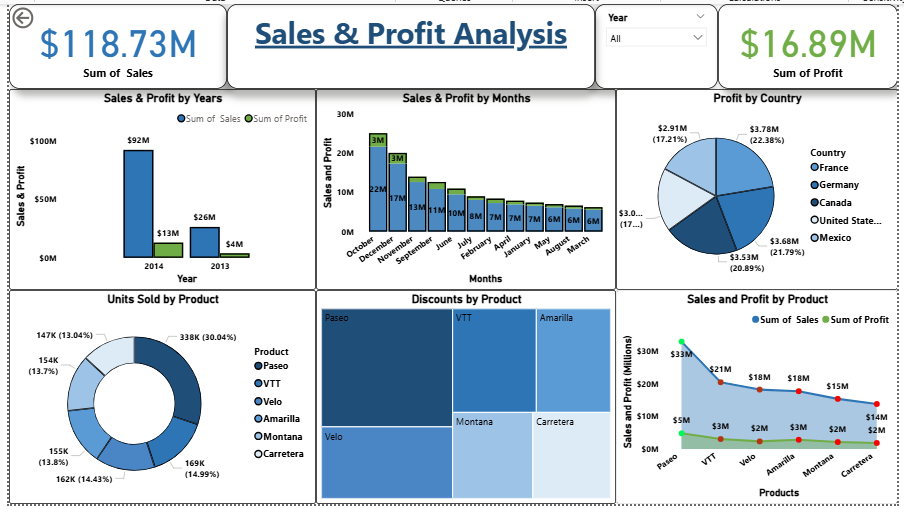

Layout of this report page (visuals, bound fields, positions):
{"tool":"powerbi","page":{"name":"Duplicate of Sales","canvas":[1280,720],"ordinal":0},"visuals":[{"type":"columnChart","title":"Sales & Profit by Months","fields":{"Category":["financials.Month Name"],"Y":["Sum(financials. Sales)","Sum(financials.Profit)"]},"box":[442.1,122.4,432,289.4],"z":0},{"type":"clusteredColumnChart","title":"Sales & Profit by Years","fields":{"Category":["financials.Year"],"Y":["Sum(financials. Sales)","Sum(financials.Profit)"]},"box":[0,122.4,442.1,289.4],"z":1000},{"type":"slicer","fields":{"Values":["financials.Year"]},"box":[843.8,0,177.1,122.4],"z":2000},{"type":"pieChart","title":"Profit by Country","fields":{"Category":["financials.Country"],"Y":["Sum(financials.Profit)"]},"box":[874.1,122.4,406.1,289.4],"z":3000},{"type":"card","fields":{"Values":["Sum(financials. Sales)"]},"box":[0,0,313.9,122.4],"z":4000},{"type":"treemap","title":"Discounts by Product","fields":{"Details":["financials.Product"],"Values":["Sum(financials.Discounts)"]},"box":[442.1,411.8,432,308.2],"z":5000},{"type":"lineChart","title":"Sales and Profit by Product","fields":{"Category":["financials.Product"],"Y":["Sum(financials. Sales)","Sum(financials.Profit)"]},"box":[874.1,411.8,406.1,308.2],"z":6000},{"type":"donutChart","title":"Units Sold by Product","fields":{"Category":["financials.Product"],"Y":["Sum(financials.Units Sold)"]},"box":[0,411.8,442.1,308.2],"z":7000},{"type":"card","fields":{"Values":["Sum(financials.Profit)"]},"box":[1021,0,259.2,122.4],"z":8000},{"type":"actionButton","box":[0,0,100,40],"z":9000},{"type":"textbox","box":[313.9,0,529.9,122.4],"z":10000}]}

Visuals, with their boxes in screenshot pixels (x1, y1, x2, y2):
"Sales & Profit by Months" columnChart: bbox(313, 85, 614, 287)
"Sales & Profit by Years" clusteredColumnChart: bbox(5, 85, 313, 287)
slicer - financials.Year: bbox(592, 0, 716, 85)
"Profit by Country" pieChart: bbox(614, 85, 896, 287)
card - Sum(financials. Sales): bbox(5, 0, 223, 85)
"Discounts by Product" treemap: bbox(313, 287, 614, 501)
"Sales and Profit by Product" lineChart: bbox(614, 287, 896, 501)
"Units Sold by Product" donutChart: bbox(5, 287, 313, 501)
card - Sum(financials.Profit): bbox(716, 0, 896, 85)
actionButton: bbox(5, 0, 74, 28)
textbox: bbox(223, 0, 592, 85)
